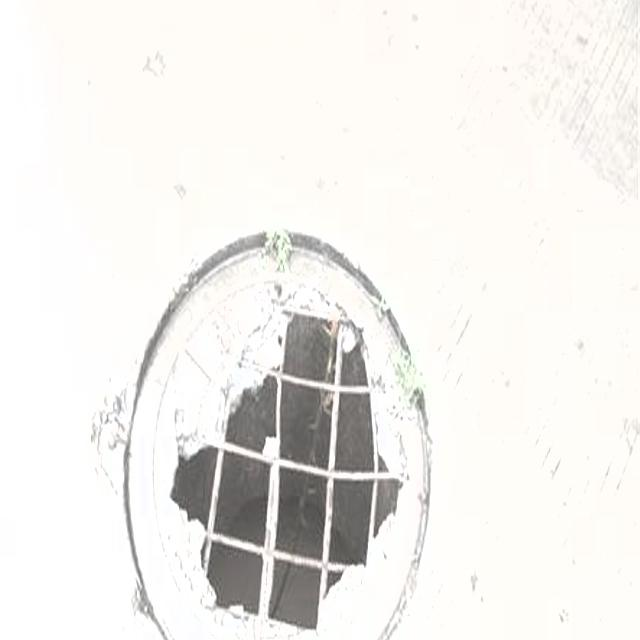broke: (100, 209, 449, 640)
